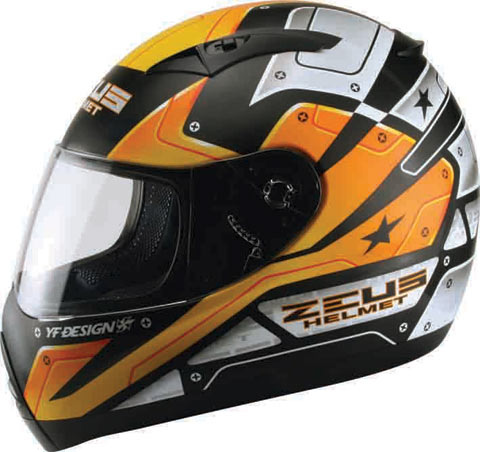helmet: (18, 5, 473, 409)
